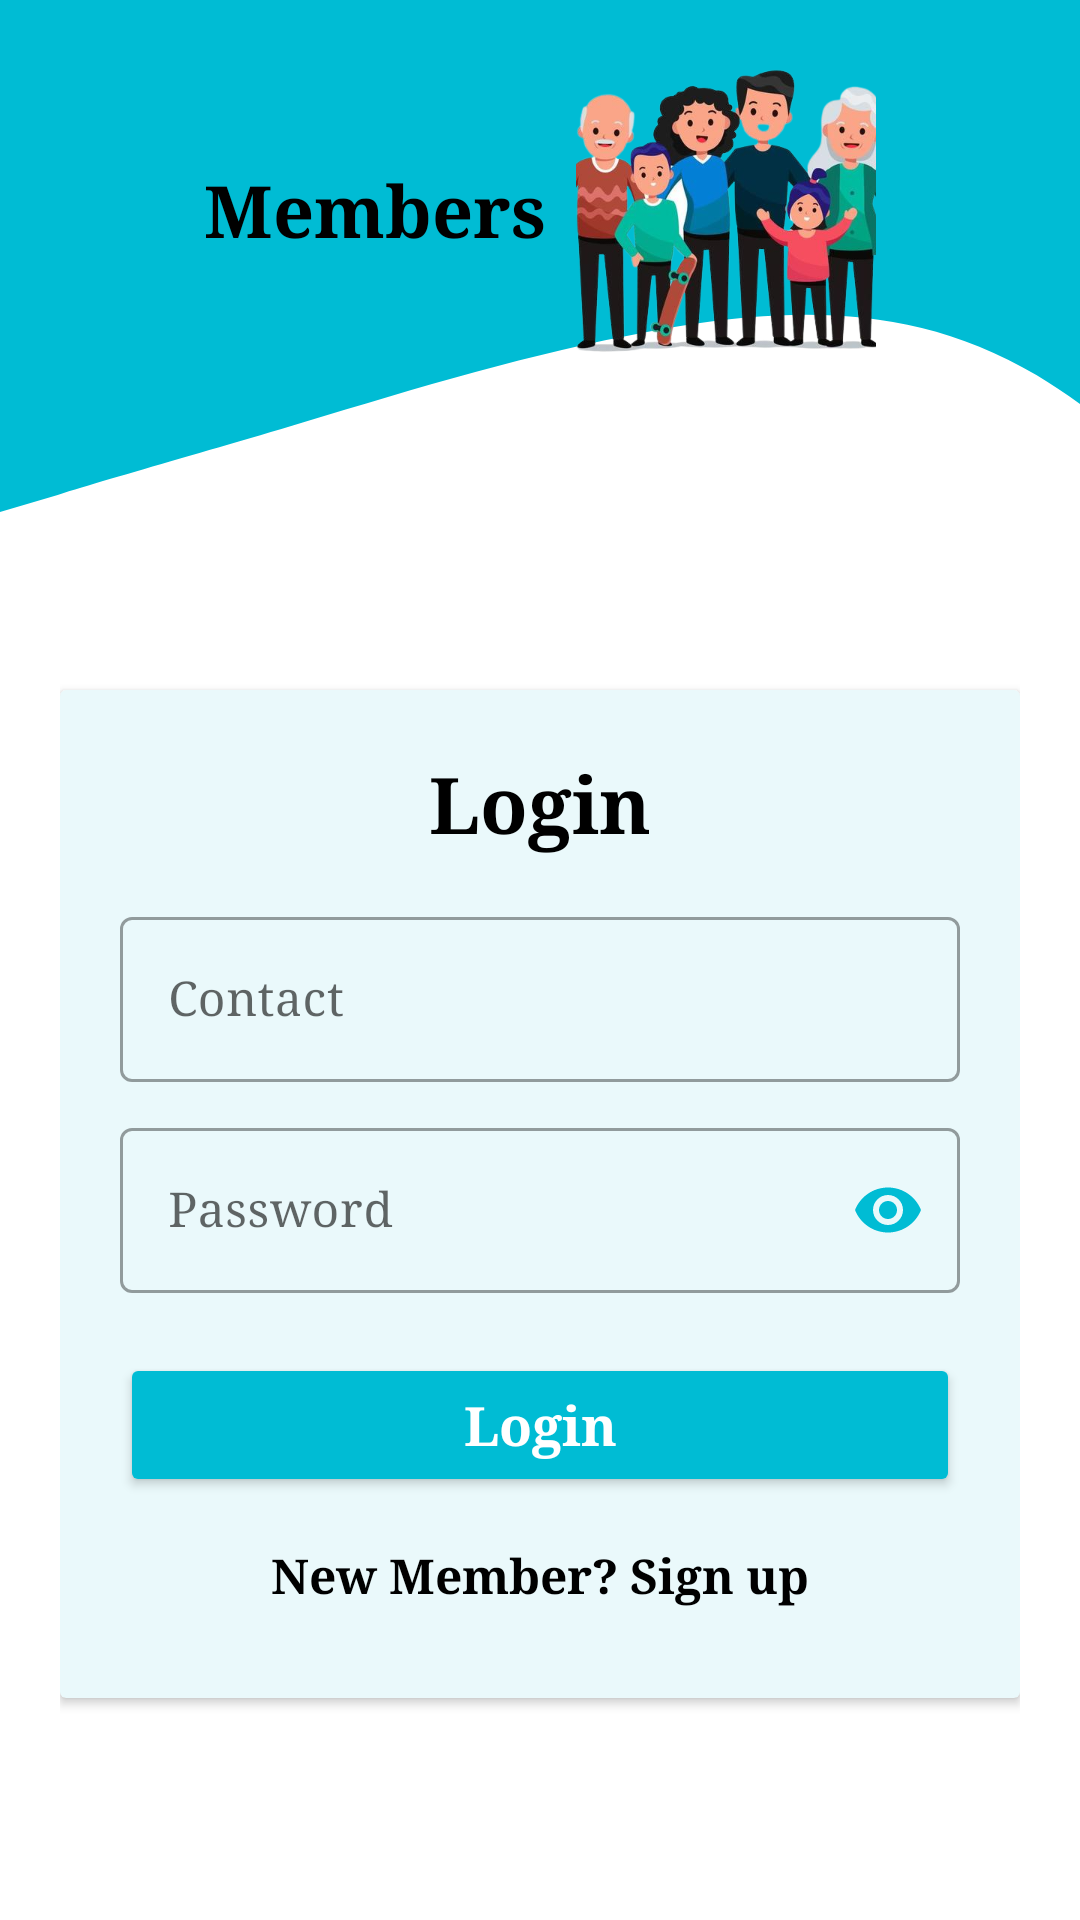

Screen size 1080px x 1920px. Icon name, then its box in pixels as Rect(x1, y1, x2, y2):
family: Rect(576, 70, 876, 360)
